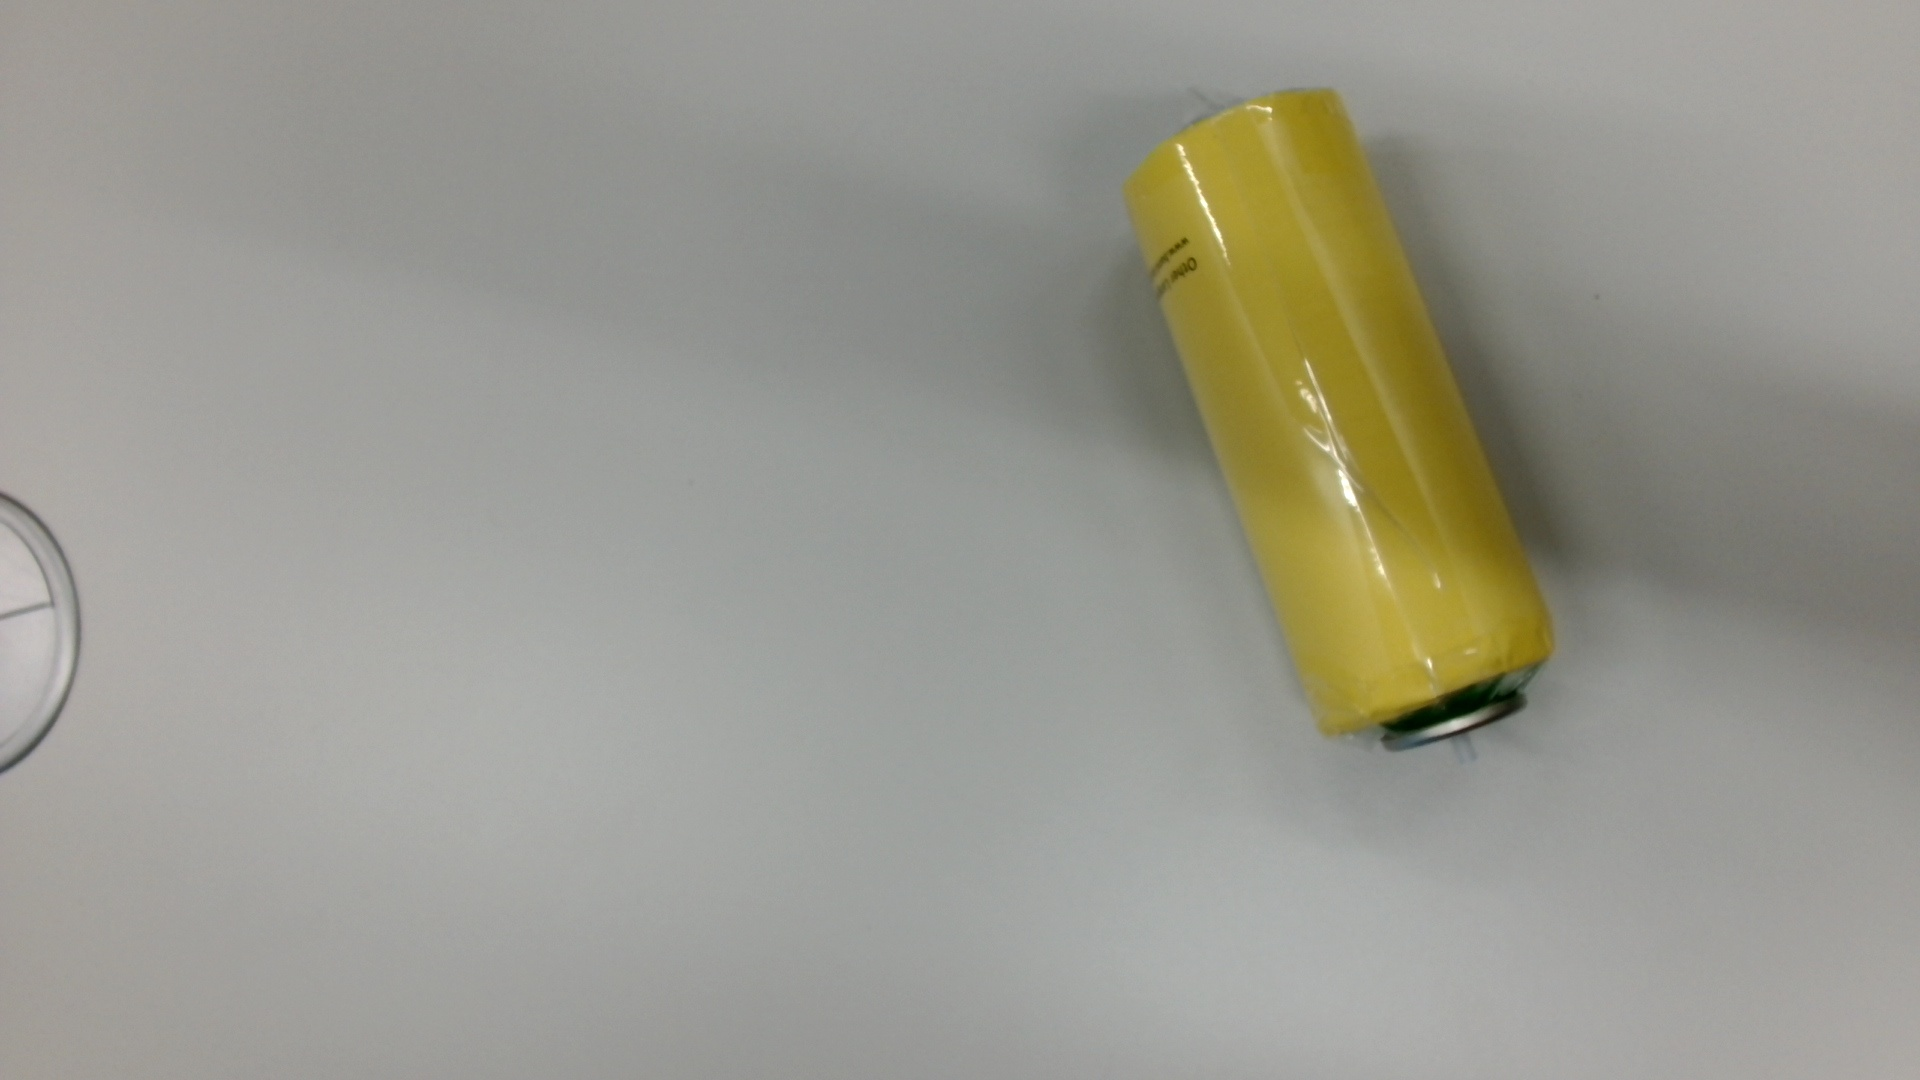Cylinder: (1112, 70, 1565, 787)
